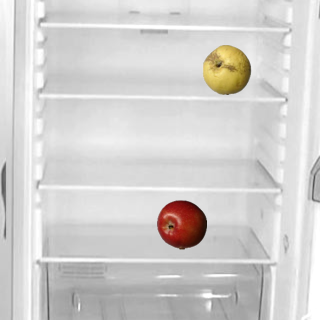Apple Braeburn: (156, 199, 206, 249)
Apple Golden 1: (201, 44, 251, 94)
